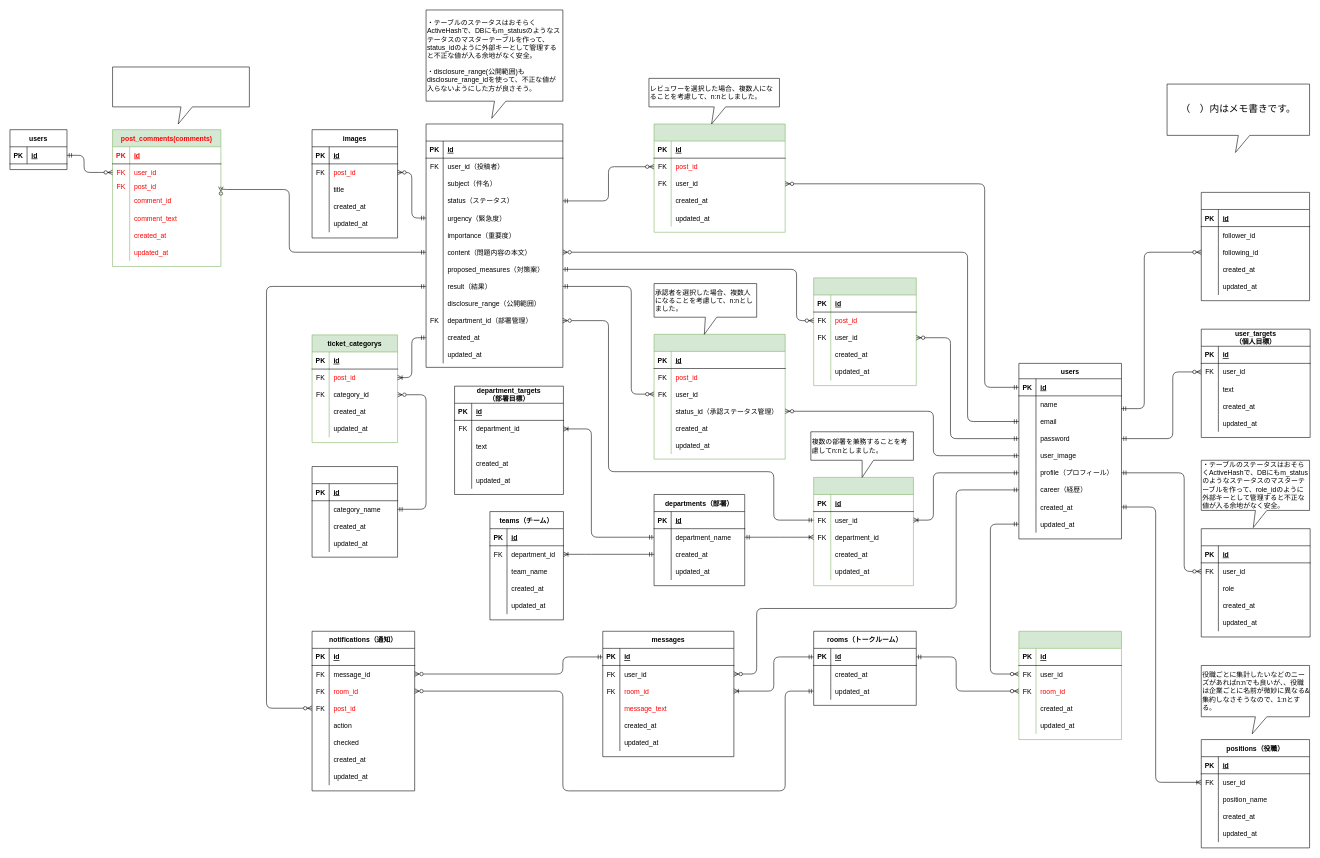
The diagram is 1320 pixels wide and 858 high, and some of its shapes have lost their labels. Here are the shapes that lost their labels. From the top down, the box of each, then its label:
(112, 66, 249, 124): ・commentに対するcommentの紐付けも行えるように、comment_idカラムを設定
(654, 123, 785, 232): reviewer_users（レビュワー）
(426, 123, 563, 367): posts
(1201, 192, 1310, 301): relationships
(813, 277, 916, 386): likes（お気に入り）
(654, 334, 785, 459): authorizer_users（承認者）
(312, 466, 398, 557): categorys （チケットカテゴリ）
(813, 477, 913, 586): department_users
(1201, 528, 1310, 637): user_roles（権限管理）
(1018, 631, 1121, 740): room_users
